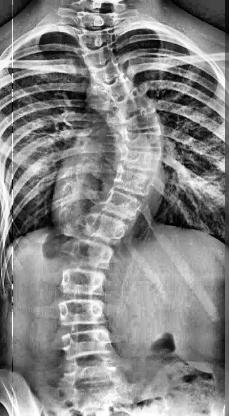Vertebrae: (62, 352, 122, 390), (106, 88, 156, 122), (57, 297, 108, 329), (80, 212, 130, 244), (56, 266, 106, 298), (61, 332, 115, 361), (67, 240, 117, 271), (113, 112, 163, 142), (96, 190, 144, 220), (94, 74, 140, 104), (109, 167, 157, 195), (118, 146, 164, 174), (118, 128, 166, 154), (82, 61, 128, 85), (74, 27, 118, 51), (80, 46, 120, 70)
